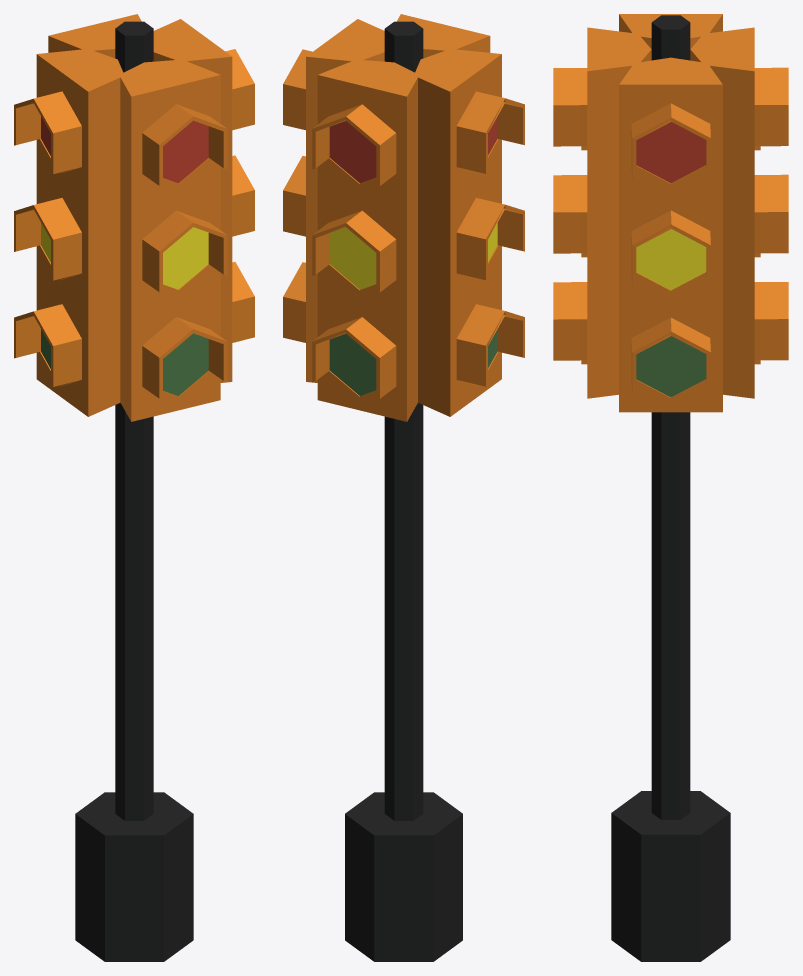
Rendered from Road_Objects_Traffic_Light_03.fbx.
3 renders of one model, left to right at view 1: azimuth 30°, elevation 25°; view 2: azimuth 150°, elevation 25°; view 3: azimuth 270°, elevation 25°, orthographic.
Visible parts, largest first — view 1: Road_Objects_Traffic_Light_03; view 2: Road_Objects_Traffic_Light_03; view 3: Road_Objects_Traffic_Light_03.
Boxes of the visible parts, <box> form: Road_Objects_Traffic_Light_03: <box>14,14,254,961</box>; Road_Objects_Traffic_Light_03: <box>283,14,524,961</box>; Road_Objects_Traffic_Light_03: <box>553,14,788,961</box>.
Size of the model in its own units: 83.65 by 360 by 83.65.
